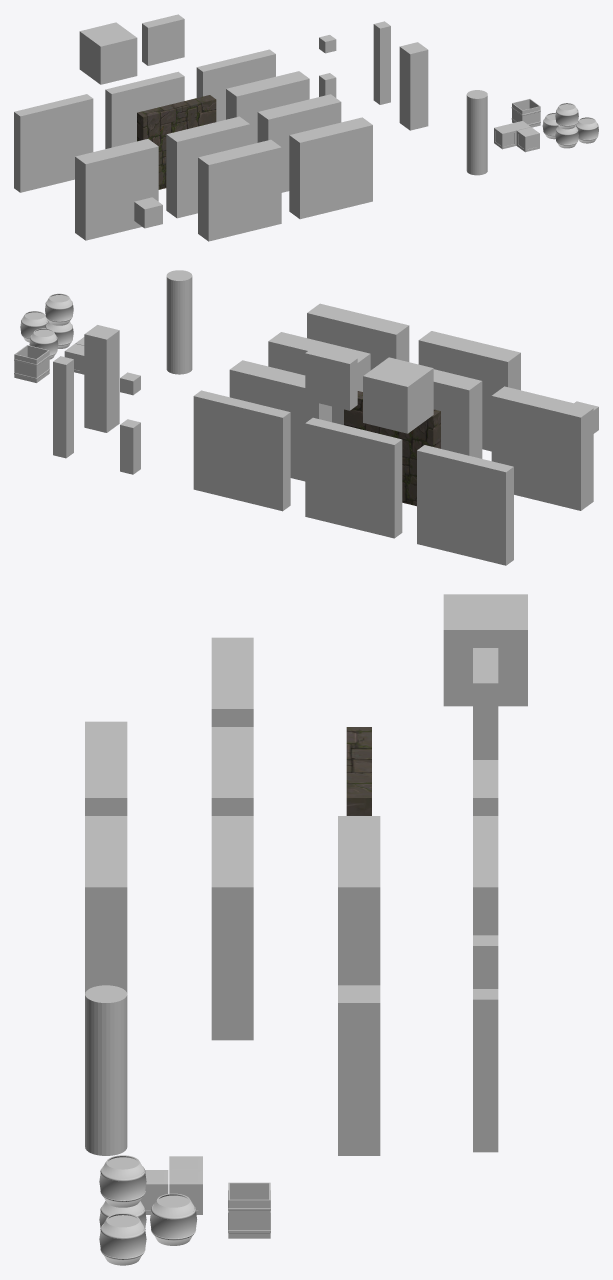
The model's file is decors1.fbx.
3 renders of one model, top to bottom at view 1: azimuth 30°, elevation 25°; view 2: azimuth 150°, elevation 25°; view 3: azimuth 270°, elevation 25°, orthographic. The views are drawn at different scales.
Parts seen in each view (by area): view 1: wall1, wall5, wall10_small, wall10, wall6, wall8, wall2, block2, wall3, wall7, wall4, pillar2_large (+12 smaller); view 2: wall10_small, wall4, wall8, wall10, wall5, wall3, block2, wall1, pillar2_large, wall6, wall8_small, Cylinder (+10 smaller); view 3: wall2, block2, wall1, pillar2_large, wall3, Cylinder, pillar2, wall10_small, wall6, wall5, wall4, wall8_small (+8 smaller).
Boxes of the visible parts, x1,y1,x2,y2 form: wall1: (289, 117, 372, 219); wall5: (198, 139, 281, 241); wall10_small: (75, 139, 158, 240); wall10: (14, 94, 93, 192); wall6: (166, 116, 249, 218); wall8: (105, 71, 184, 148); wall2: (257, 94, 341, 192); block2: (79, 22, 137, 84); wall3: (226, 71, 309, 144); wall7: (137, 95, 216, 189); wall4: (196, 49, 275, 121); pillar2_large: (399, 42, 428, 130); wall10_small: (491, 386, 593, 510); wall4: (193, 390, 290, 511); wall8: (305, 417, 402, 538); wall10: (417, 445, 513, 565); wall5: (418, 331, 520, 451); wall3: (229, 360, 331, 481); block2: (363, 357, 433, 433); wall1: (307, 303, 409, 370); pillar2_large: (84, 325, 119, 432); wall6: (433, 369, 482, 458); wall8_small: (305, 347, 357, 410); Cylinder: (166, 270, 192, 374); wall2: (211, 816, 253, 1040); block2: (443, 594, 527, 706); wall1: (85, 816, 127, 993); pillar2_large: (338, 985, 380, 1155); wall3: (338, 816, 380, 985); Cylinder: (85, 985, 127, 1155); pillar2: (473, 989, 498, 1152); wall10_small: (211, 637, 253, 726); wall6: (211, 727, 253, 815); wall5: (85, 727, 127, 815); wall4: (473, 816, 498, 988); wall8_small: (473, 648, 498, 759).
Bounding box in the file's own units: 2681 × 700 × 1050.
